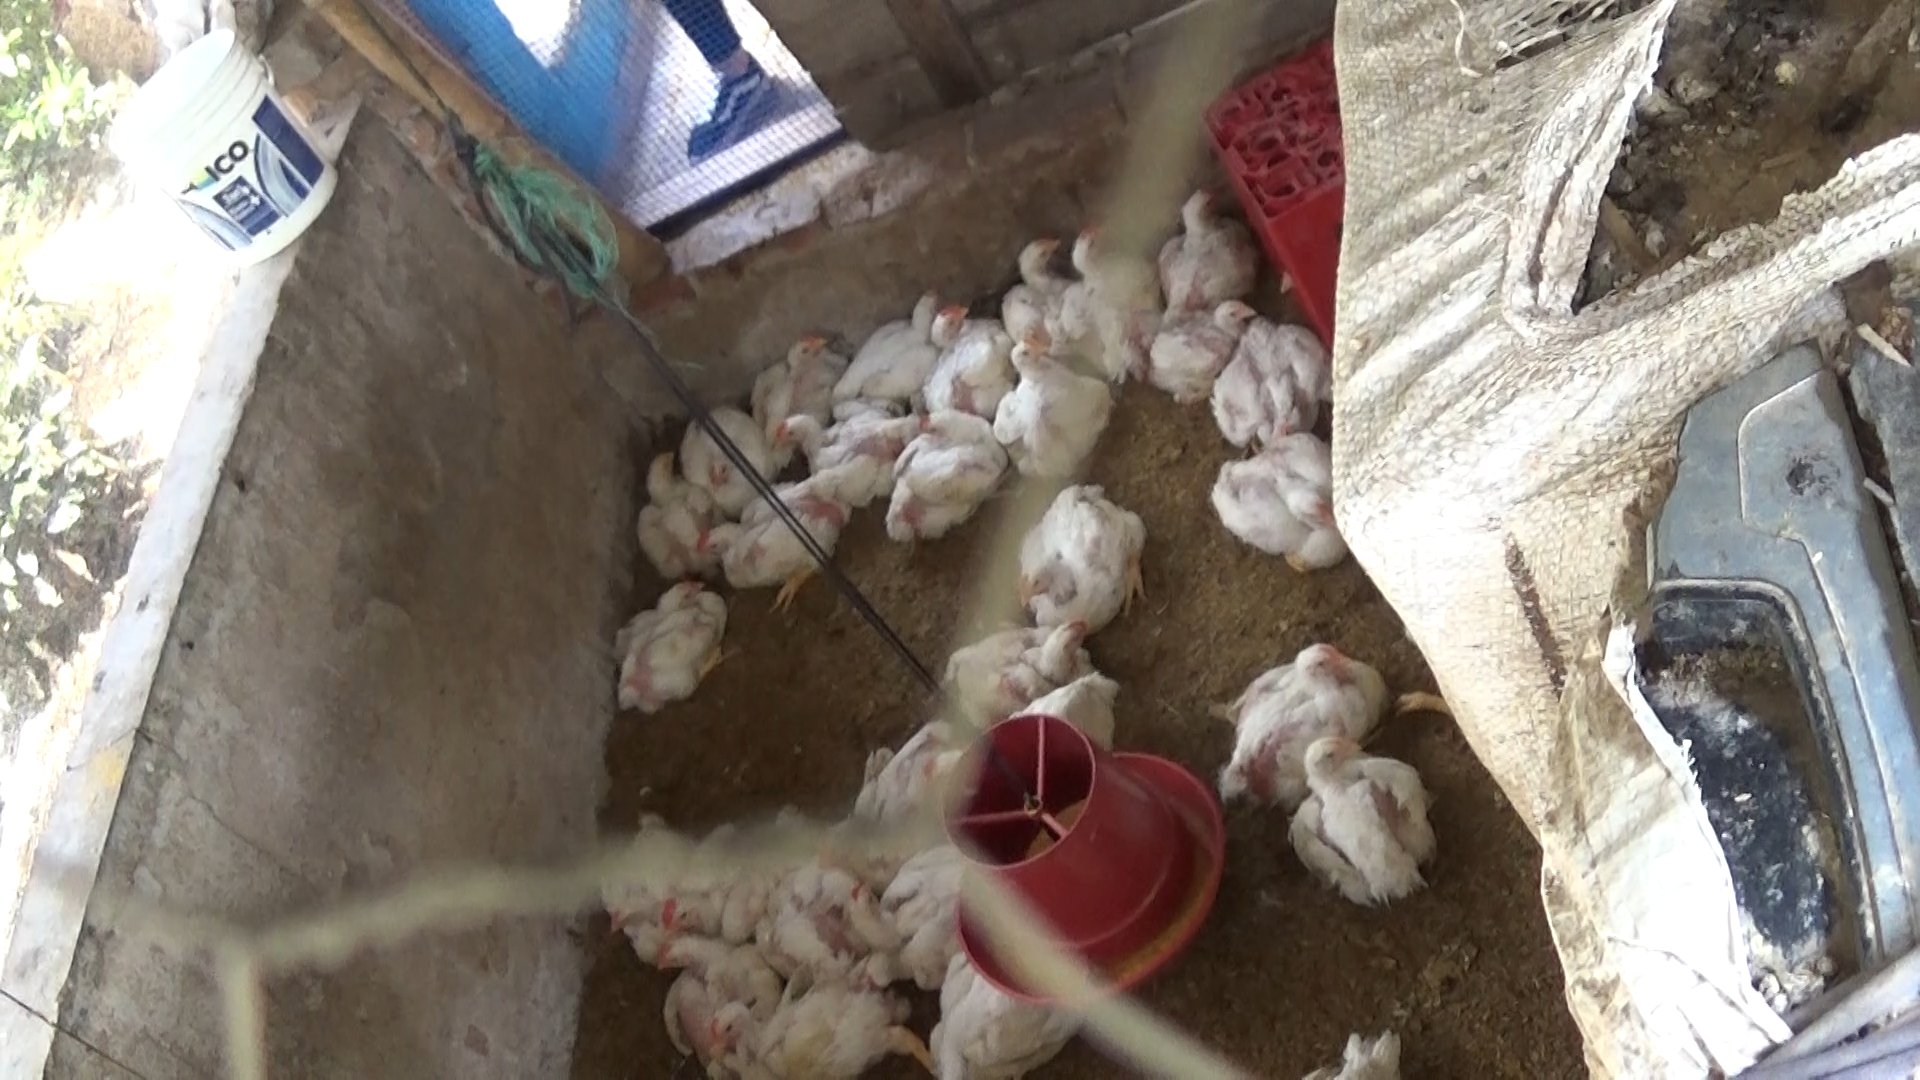Pollos: (1211, 629, 1389, 810), (1282, 728, 1444, 909), (692, 467, 861, 617), (690, 975, 928, 1077), (903, 944, 1083, 1080), (876, 397, 1015, 564), (1011, 469, 1149, 634), (1209, 431, 1352, 578), (663, 808, 808, 948), (1050, 223, 1176, 377), (989, 328, 1109, 484), (833, 847, 965, 986), (926, 613, 1093, 723), (609, 574, 733, 717), (593, 804, 698, 973), (640, 934, 786, 1051), (1207, 315, 1329, 450), (764, 405, 913, 514), (822, 284, 936, 407), (1155, 186, 1269, 302), (1131, 302, 1259, 405), (632, 448, 725, 578), (1001, 227, 1097, 348), (669, 411, 785, 508), (923, 310, 1025, 411), (756, 327, 845, 438)
